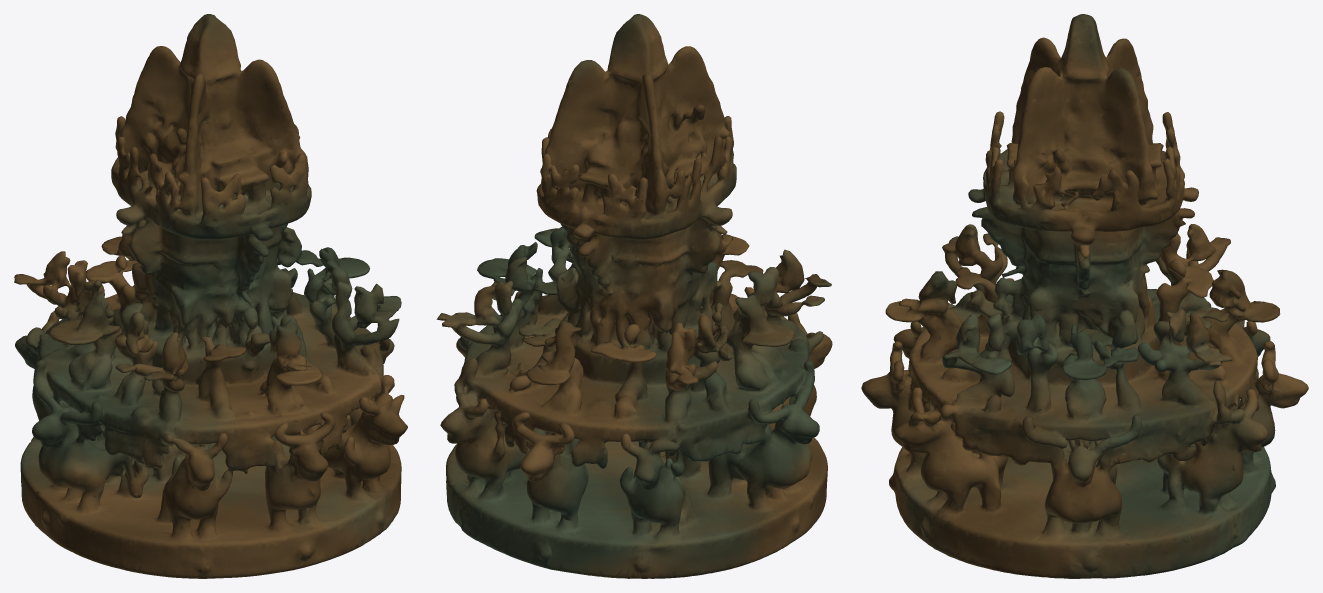
Rendered from shentan.glb.
The picture shows the model from 3 angles, left to right: view 1: azimuth 30°, elevation 25°; view 2: azimuth 150°, elevation 25°; view 3: azimuth 270°, elevation 25°; orthographic projection.
Parts seen in each view (by area): view 1: model; view 2: model; view 3: model.
Boxes of the visible parts, x1,y1,x2,y2 form: model: (14,14,407,578); model: (436,14,832,578); model: (861,14,1308,578).
Bounding box in the file's own units: 0.7768 × 1 × 0.8339.
